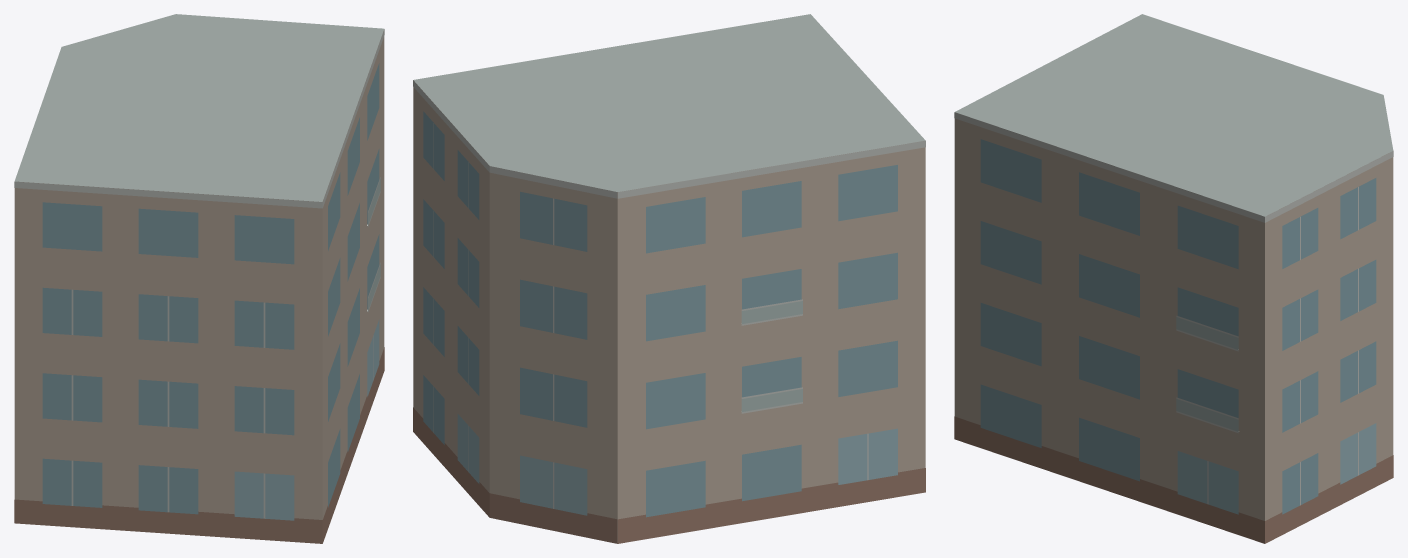
Rendered from survey-upis-32525132.glb.
3 renders of one model, left to right at view 1: azimuth 30°, elevation 25°; view 2: azimuth 150°, elevation 25°; view 3: azimuth 270°, elevation 25°, orthographic. The views are drawn at different scales.
Parts seen in each view (by area): view 1: survey-upis-32525132.tmp; view 2: survey-upis-32525132.tmp; view 3: survey-upis-32525132.tmp.
Boxes of the visible parts, x1,y1,x2,y2 form: survey-upis-32525132.tmp: (14, 14, 384, 543); survey-upis-32525132.tmp: (413, 14, 925, 543); survey-upis-32525132.tmp: (954, 14, 1393, 543).
Bounding box in the file's own units: 17.15 × 12.9 × 15.69.
